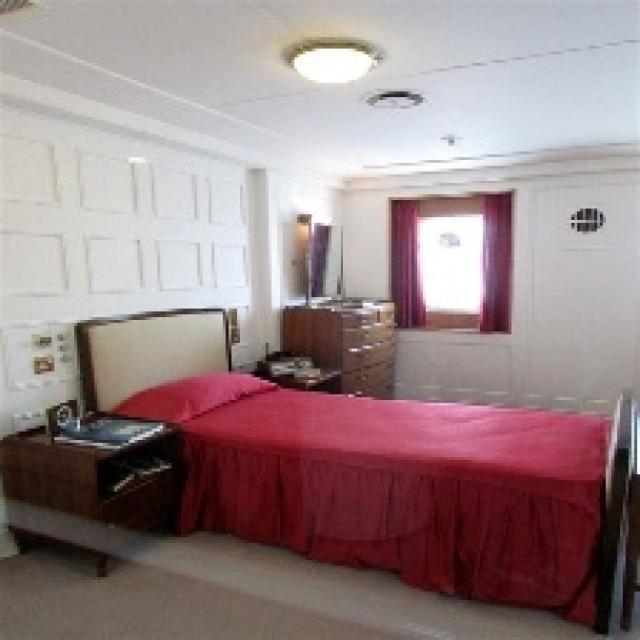Bed: (74, 306, 637, 634)
drawers: (292, 294, 398, 384)
